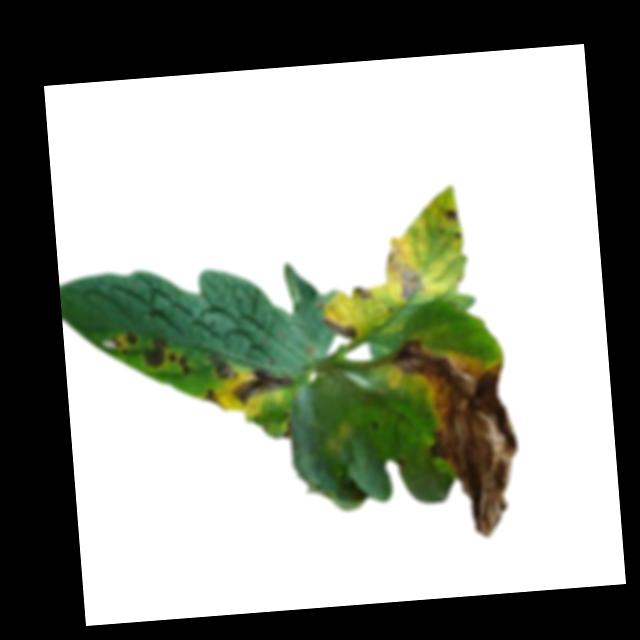Early_blight: (393, 335, 524, 544), (229, 366, 295, 405), (386, 246, 425, 302), (321, 313, 359, 344), (205, 352, 237, 383), (141, 338, 168, 369), (201, 386, 225, 414), (109, 330, 138, 353), (350, 285, 376, 306), (169, 351, 189, 377), (444, 209, 458, 226)
